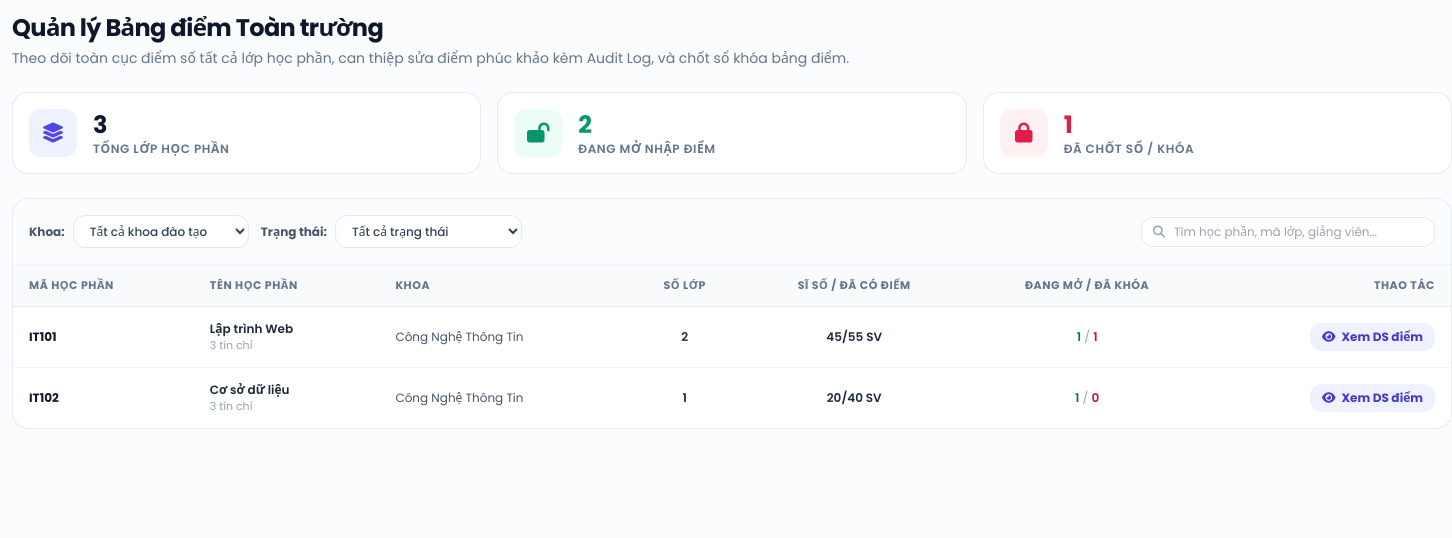
Scenario: ManageGradebook (Admin Gradebook Management) › filters students by name or code and by grade completion status in detail view
Click the button with aria-label "Xem DS điểm Lập trình Web" at (1372, 336), box x1=1310 y1=322 x2=1435 y2=350
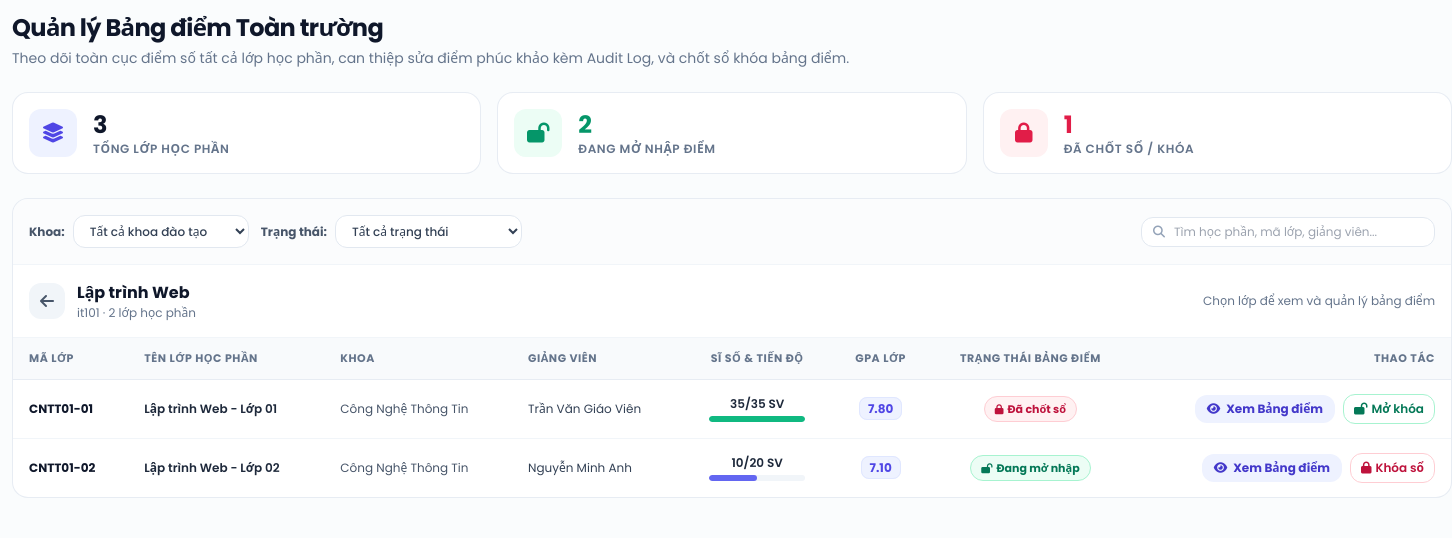
Result: the text "it101 · 2 lớp học phần" is shown at x1=77 y1=305 x2=196 y2=321
Click the button with aria-label "Xem Bảng điểm CNTT01-01" at (1265, 408), box x1=1195 y1=394 x2=1335 y2=422
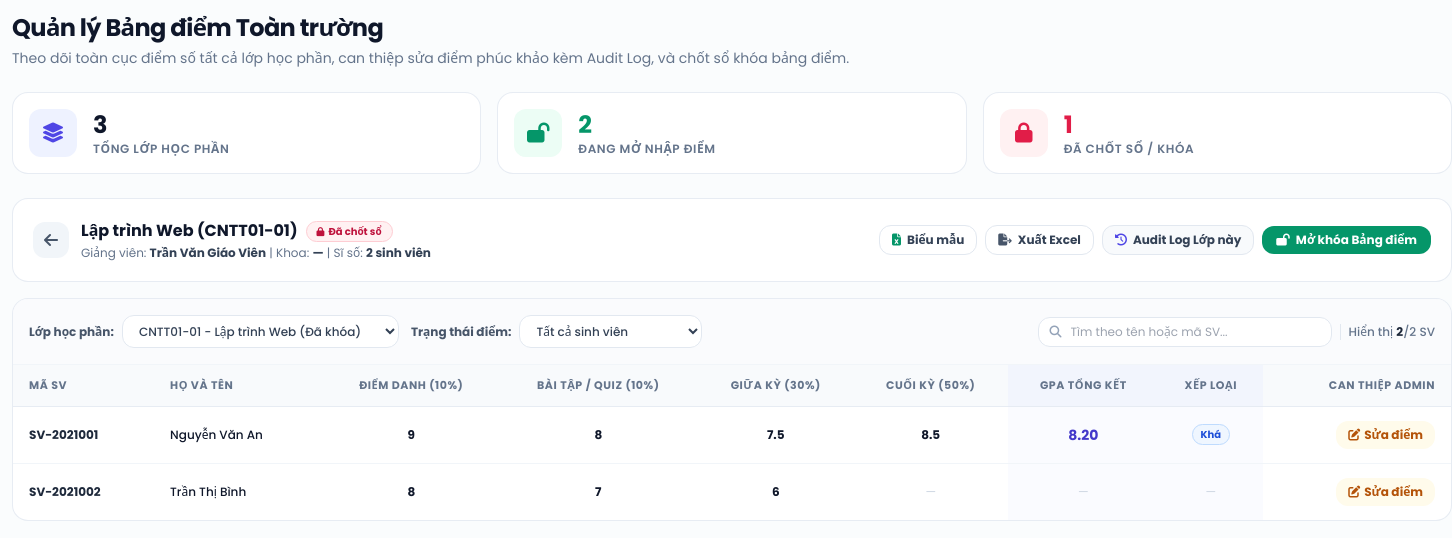
Result: the text "Nguyễn Văn An" is shown at x1=154 y1=406 x2=324 y2=463
Result: the text "Trần Thị Bình" is shown at x1=154 y1=463 x2=324 y2=520
Type "Bình" into the field with placeholder "Tìm theo tên hoặc mã SV..." at (1184, 332), box x1=1038 y1=316 x2=1332 y2=346
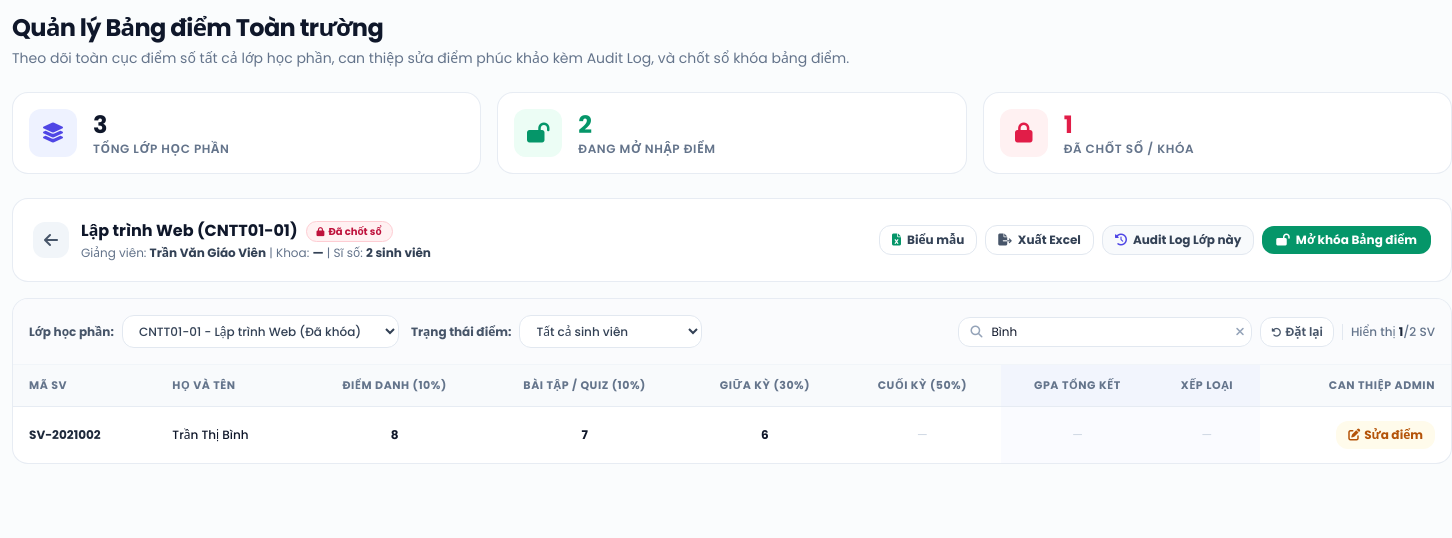
Result: the text "Trần Thị Bình" is shown at x1=156 y1=406 x2=306 y2=462
Result: the text "Nguyễn Văn An" is gone
Clear the field with placeholder "Tìm theo tên hoặc mã SV..." at (1106, 332), box x1=958 y1=316 x2=1252 y2=346
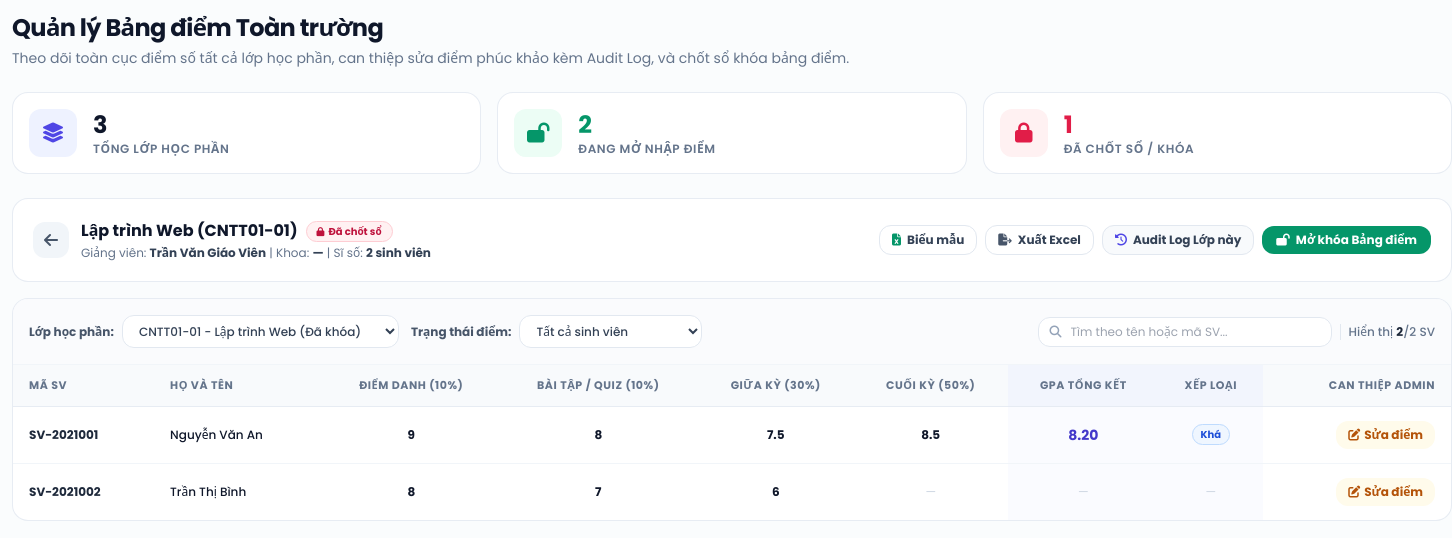
Result: the text "Trần Thị Bình" is shown at x1=154 y1=463 x2=324 y2=520
Result: the text "Nguyễn Văn An" is shown at x1=154 y1=406 x2=324 y2=463
Select "Đã có điểm tổng kết" in the dropdown labelled "Trạng thái điểm:" at (611, 332), box x1=519 y1=315 x2=702 y2=348
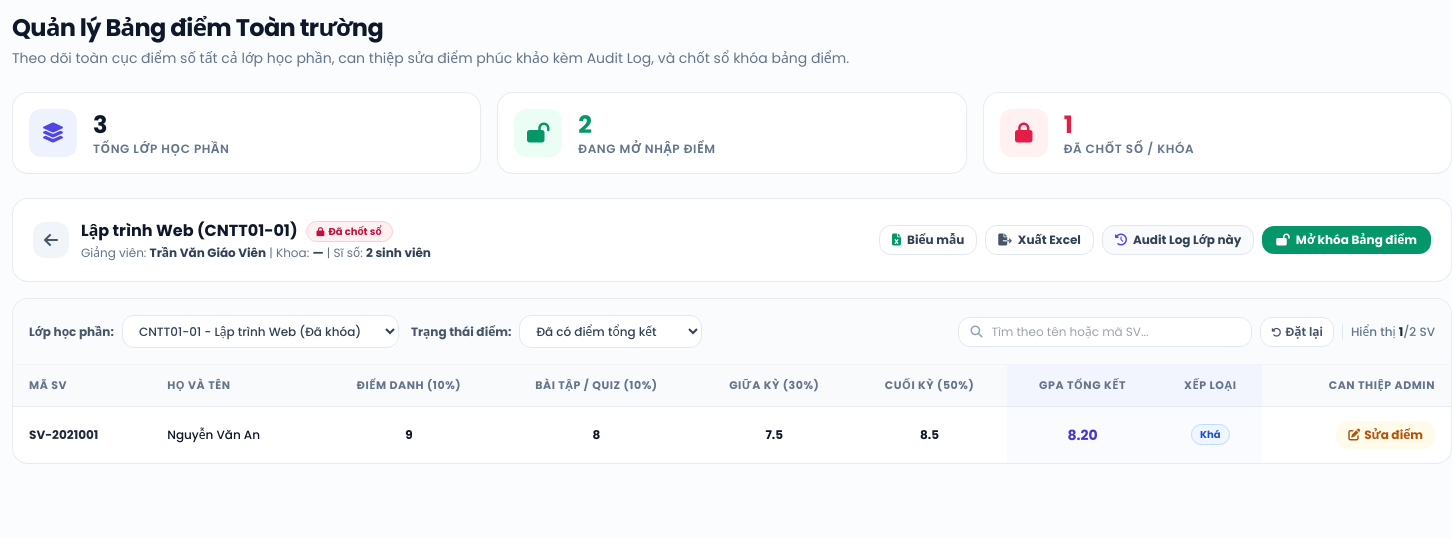
Result: the text "Nguyễn Văn An" is shown at x1=151 y1=406 x2=321 y2=462
Result: the text "Trần Thị Bình" is gone
Select "Chưa có điểm tổng kết" in the dropdown labelled "Trạng thái điểm:" at (611, 332), box x1=519 y1=315 x2=702 y2=348
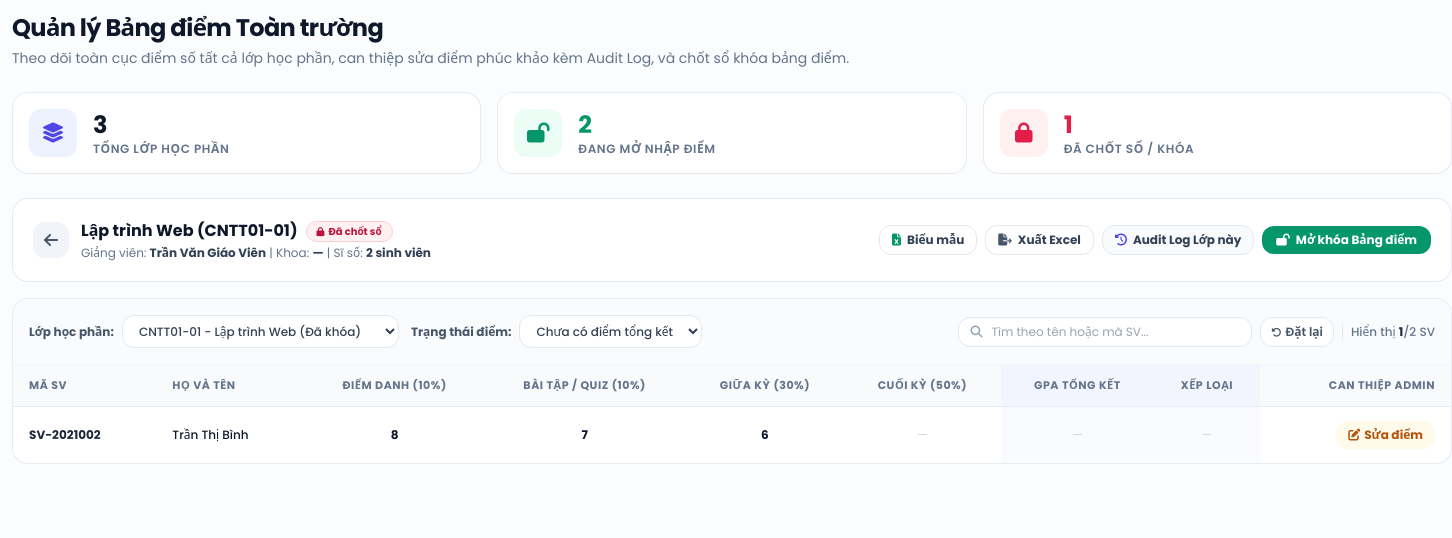
Result: the text "Trần Thị Bình" is shown at x1=156 y1=406 x2=306 y2=462
Result: the text "Nguyễn Văn An" is gone
